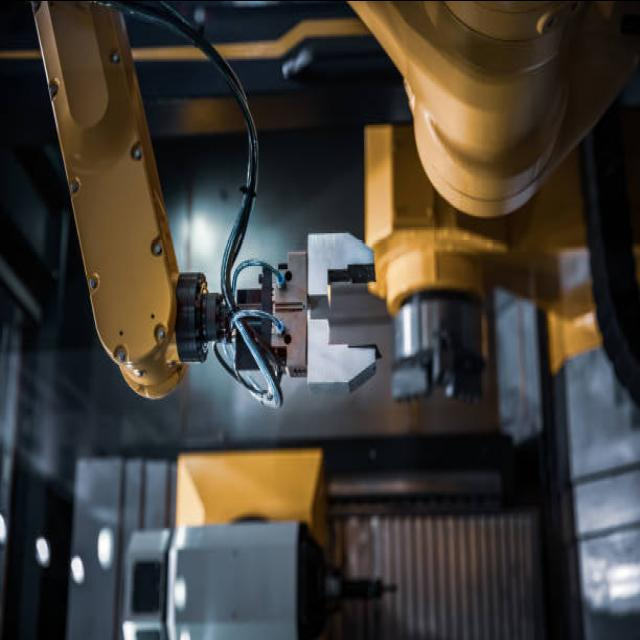Robotic-arm: (23, 0, 574, 422)
